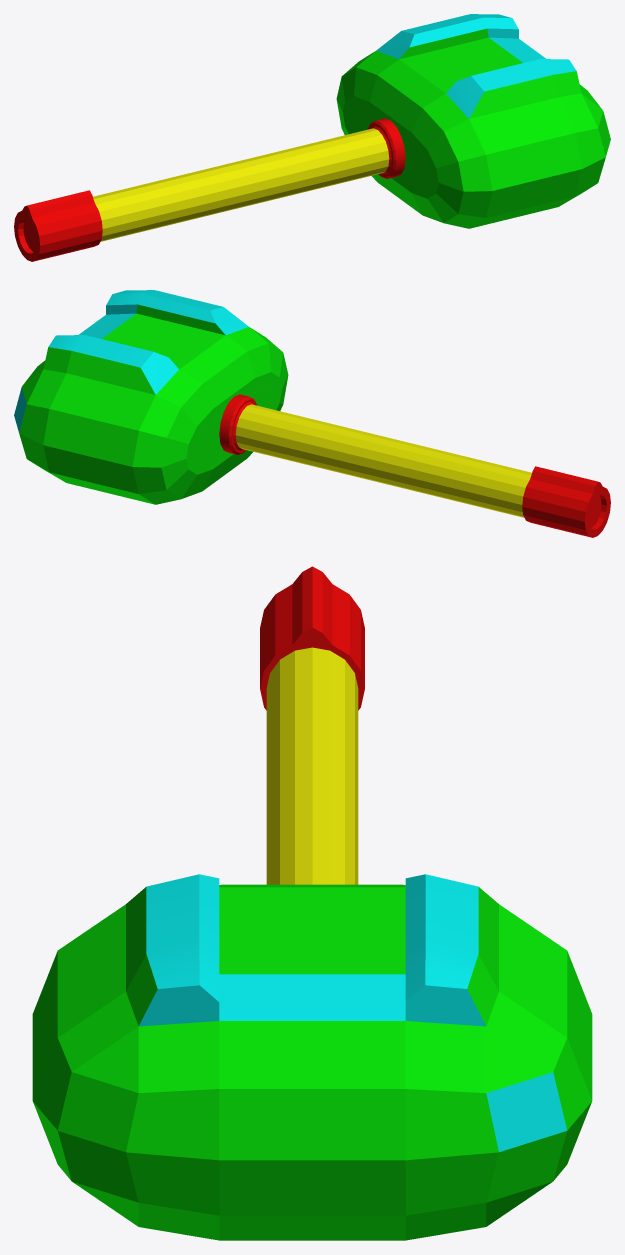
Rendered from Turret_A_SM.fbx.
3 views of the same model, one above another, from view 1: azimuth 30°, elevation 25°; view 2: azimuth 150°, elevation 25°; view 3: azimuth 270°, elevation 25° (orthographic). The views are drawn at different scales.
Parts seen in each view (by area): view 1: polySurface8; view 2: polySurface8; view 3: polySurface8.
Boxes of the visible parts, x1=… form: polySurface8: x1=14, y1=14, x2=610, y2=261; polySurface8: x1=14, y1=290, x2=610, y2=537; polySurface8: x1=32, y1=566, x2=592, y2=1240.
Size of the model in its own units: 18.01 by 4.52 by 8.
